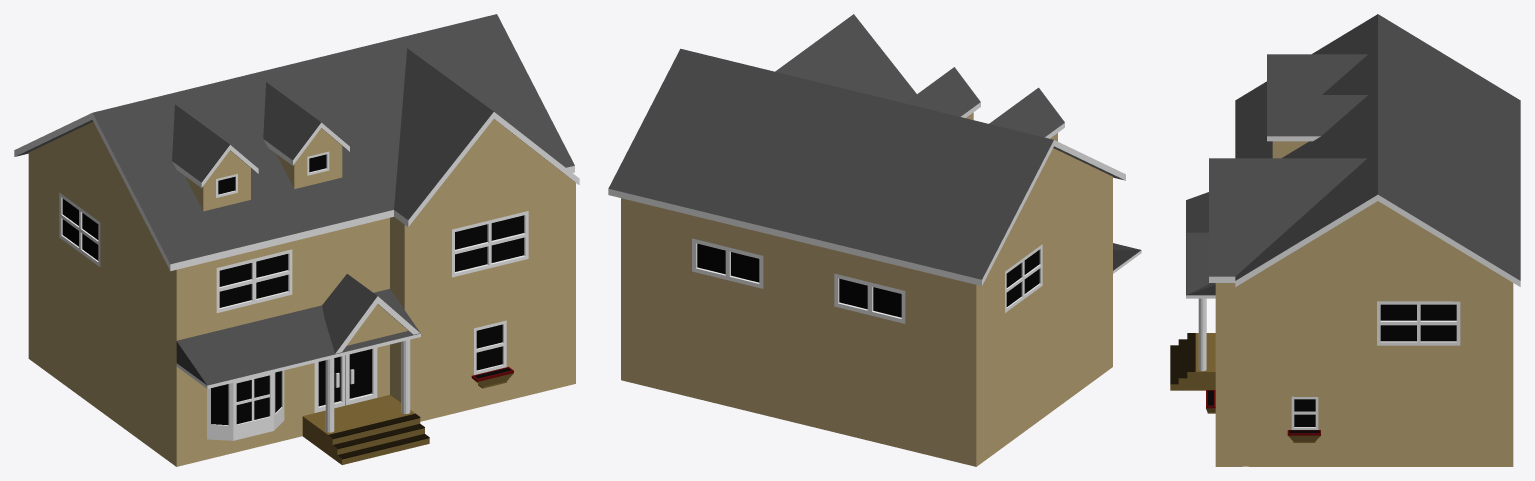
The model's file is House-14.fbx.
3 views of the same model, side by side, from view 1: azimuth 30°, elevation 25°; view 2: azimuth 150°, elevation 25°; view 3: azimuth 270°, elevation 25° (orthographic). The views are drawn at different scales.
Parts seen in each view (by area): view 1: Cube; view 2: Cube; view 3: Cube.
Boxes of the visible parts, x1,y1,x2,y2 form: Cube: [14, 14, 579, 466]; Cube: [608, 14, 1141, 466]; Cube: [1170, 14, 1520, 466].
Size of what is drawn, in the model's own units: 12.63 by 9.03 by 10.36.
